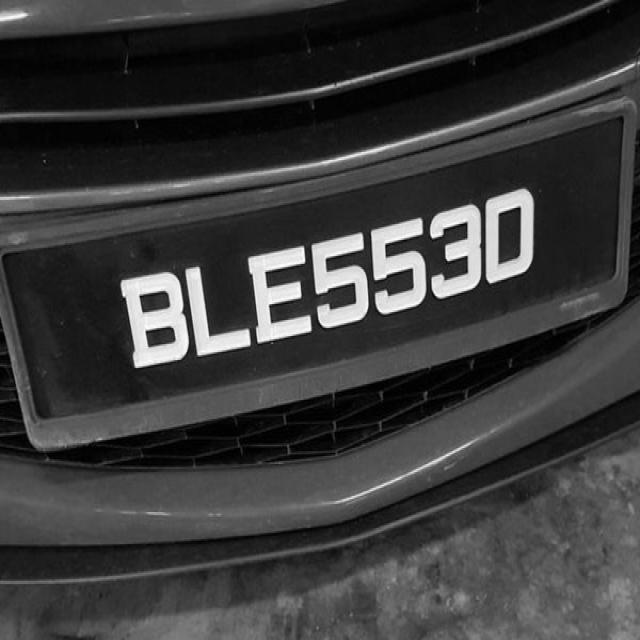car-plate: (0, 89, 634, 448)
